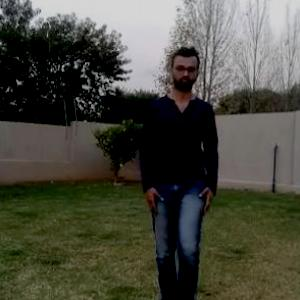follow: (142, 40, 218, 299)
